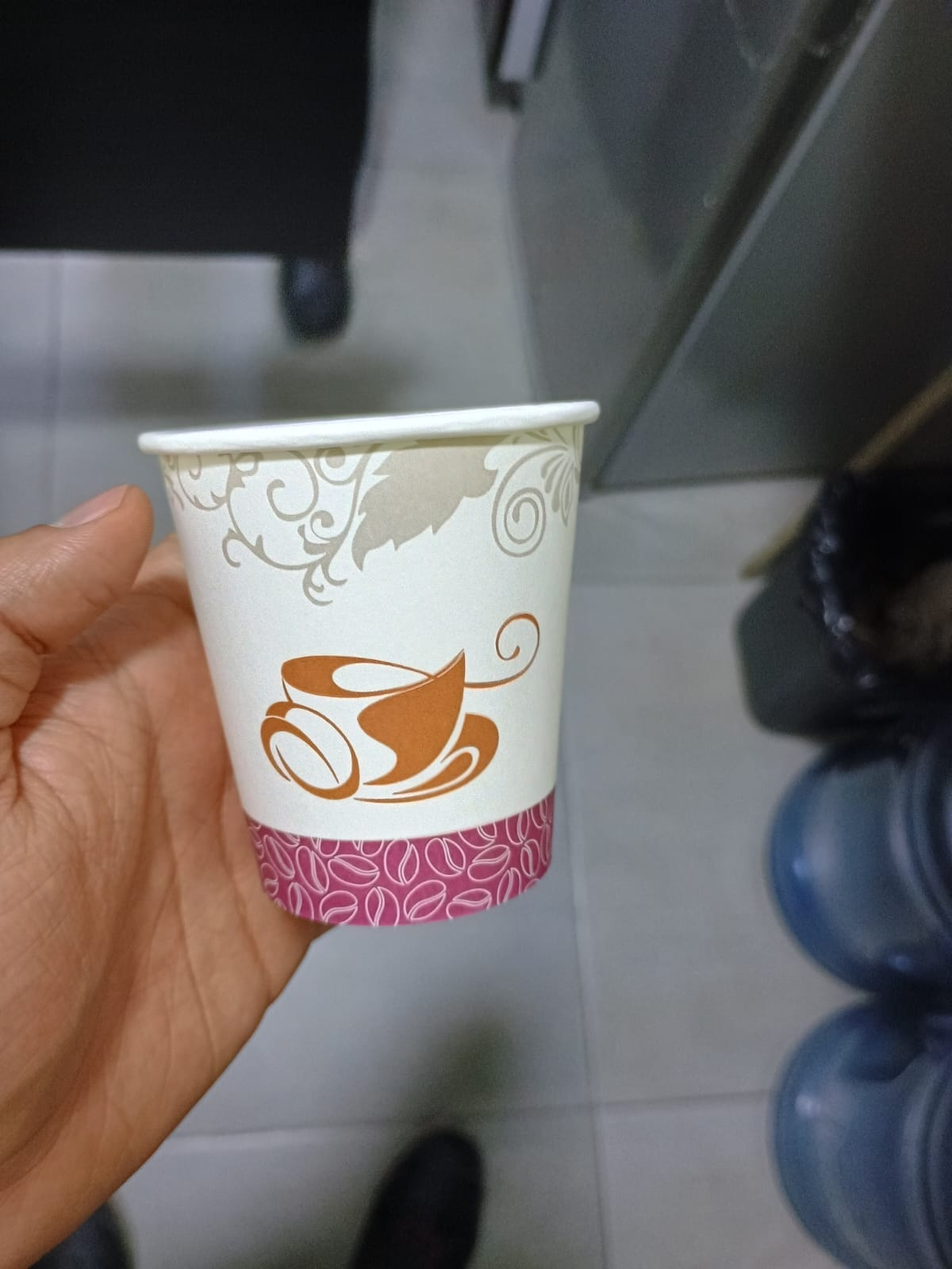Carton: (133, 402, 604, 924)
